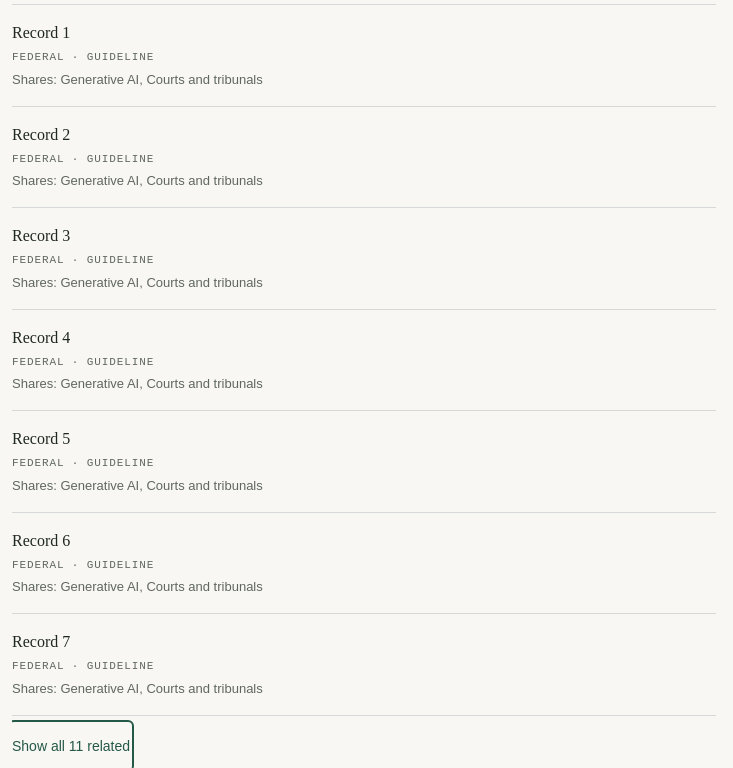
Test: RelatedInstruments › caps at eight, counts the total from data, and expands in place keeping focus
This screenshot has width=733, height=768.
(page scrolled)
Click the button "Show all 11 related": (71, 746) 12,724 -> 130,767
(page scrolled)
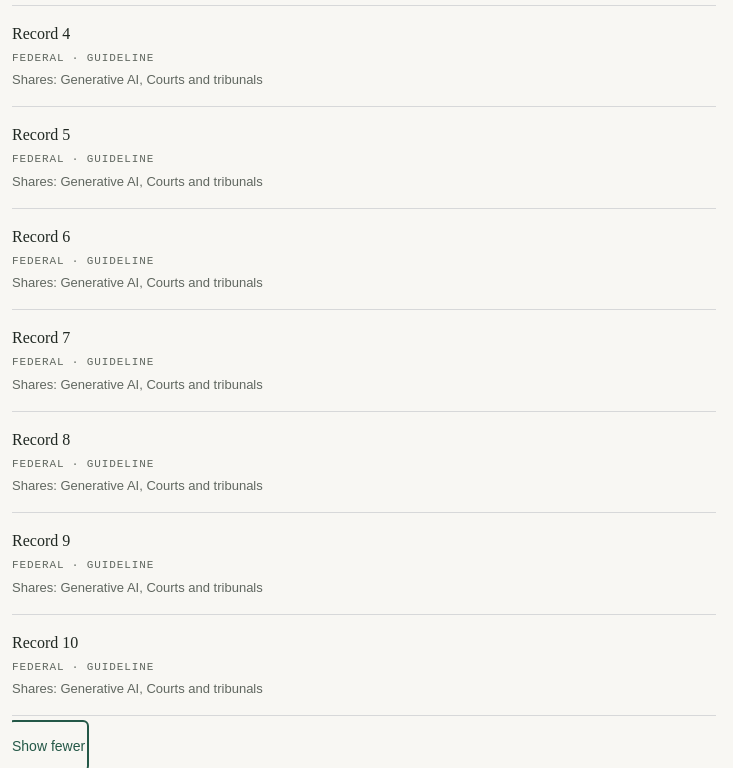
Expected: the number of list items is 11
Expected: the button named "Show all 11 related" is expanded, 12,724 -> 85,767
